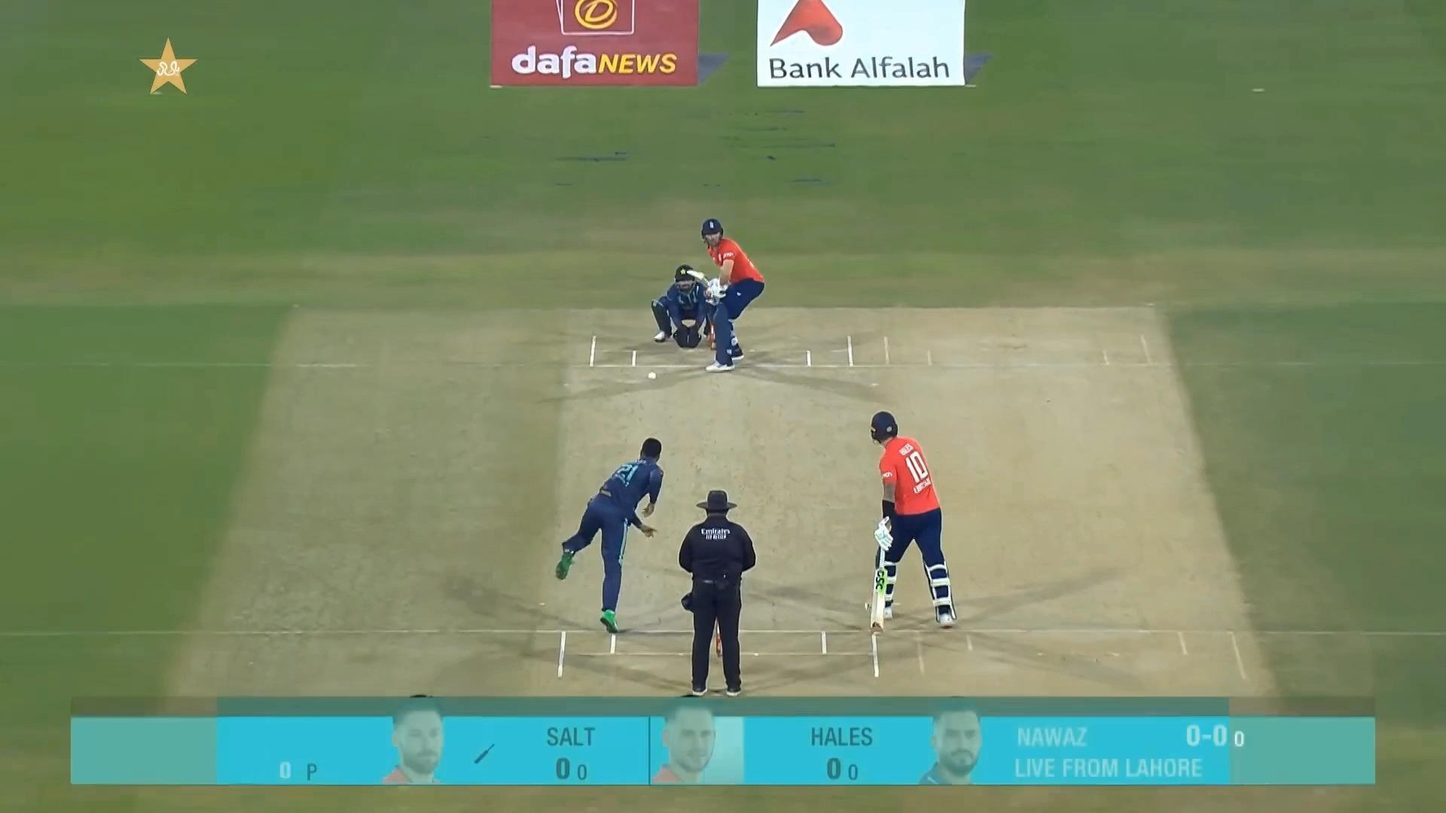BM 1: (687, 219, 765, 373)
BO: (552, 434, 667, 633)
